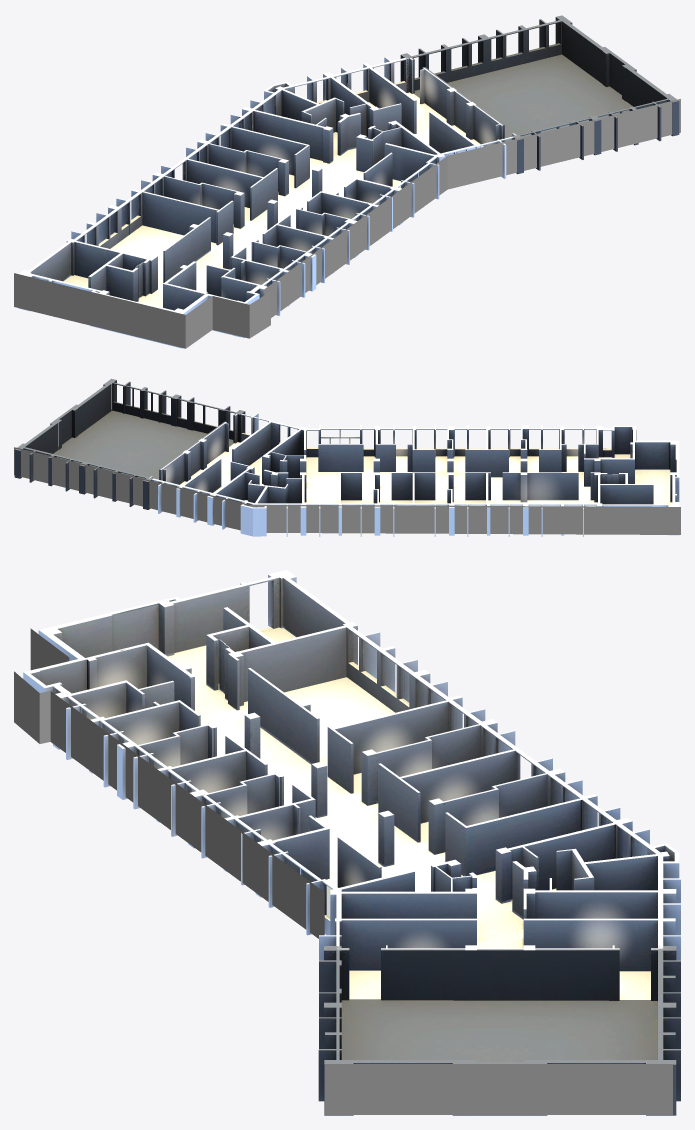
3 renders of one model, top to bottom at view 1: azimuth 30°, elevation 25°; view 2: azimuth 150°, elevation 25°; view 3: azimuth 270°, elevation 25°, orthographic. The views are drawn at different scales.
Visible parts, largest first — view 1: hd_4floor_wlm_1, hd_4_zoulang_2, hd_4floor_room01_3, hd_4floor_room08_10, hd_4floor_room02_4, hd_4floor_room17_19, hd_4floor_room03_5, hd_4floor_room16_18, hd_4floor_room04_6, hd_4floor_room05_7, hd_4floor_room06_8, hd_4floor_room09_11 (+8 smaller); view 2: hd_4floor_wlm_1, hd_4_zoulang_2, hd_4floor_room01_3, hd_4floor_room08_10, hd_4floor_room02_4, hd_4floor_room17_19, hd_4floor_room03_5, hd_4floor_room18_20, hd_4floor_room04_6, hd_4floor_room09_11, hd_4floor_room06_8, hd_4floor_room16_18 (+8 smaller); view 3: hd_4_zoulang_2, hd_4floor_room01_3, hd_4floor_wlm_1, hd_4floor_room08_10, hd_4floor_room02_4, hd_4floor_room17_19, hd_4floor_room09_11, hd_4floor_room05_7, hd_4floor_room03_5, hd_4floor_room16_18, hd_4floor_room04_6, hd_4floor_room07_9 (+8 smaller).
Boxes of the visible parts, x1,y1,x2,y2 form: hd_4floor_wlm_1: (14, 99, 680, 348); hd_4_zoulang_2: (18, 103, 475, 348); hd_4floor_room01_3: (400, 15, 679, 174); hd_4floor_room08_10: (66, 189, 218, 293); hd_4floor_room02_4: (367, 57, 516, 178); hd_4floor_room17_19: (250, 75, 372, 156); hd_4floor_room03_5: (323, 63, 415, 133); hd_4floor_room16_18: (356, 143, 439, 217); hd_4floor_room04_6: (197, 124, 307, 192); hd_4floor_room05_7: (184, 143, 288, 200); hd_4floor_room06_8: (152, 158, 263, 224); hd_4floor_room09_11: (165, 261, 267, 337); hd_4floor_wlm_1: (14, 447, 680, 534); hd_4_zoulang_2: (221, 421, 679, 536); hd_4floor_room01_3: (14, 378, 245, 509); hd_4floor_room08_10: (487, 472, 602, 536); hd_4floor_room02_4: (149, 413, 272, 513); hd_4floor_room17_19: (215, 469, 303, 536); hd_4floor_room03_5: (176, 458, 254, 525); hd_4floor_room18_20: (262, 426, 306, 483); hd_4floor_room04_6: (338, 472, 380, 536); hd_4floor_room09_11: (584, 425, 636, 483); hd_4floor_room06_8: (413, 472, 454, 536); hd_4floor_room16_18: (305, 425, 376, 471); hd_4_zoulang_2: (38, 570, 632, 948); hd_4floor_room01_3: (318, 946, 680, 1115); hd_4floor_wlm_1: (14, 628, 672, 1114); hd_4floor_room08_10: (228, 622, 462, 776); hd_4floor_room02_4: (319, 918, 680, 999); hd_4floor_room17_19: (509, 823, 680, 921); hd_4floor_room09_11: (23, 644, 192, 749); hd_4floor_room05_7: (400, 749, 552, 854); hd_4floor_room03_5: (523, 888, 680, 935); hd_4floor_room16_18: (268, 828, 413, 935); hd_4floor_room04_6: (436, 768, 597, 860); hd_4floor_room07_9: (333, 700, 485, 799).
Bounding box in the file's own units: 7.53 × 0.3782 × 4.26.
21 materials, 19 textured.
